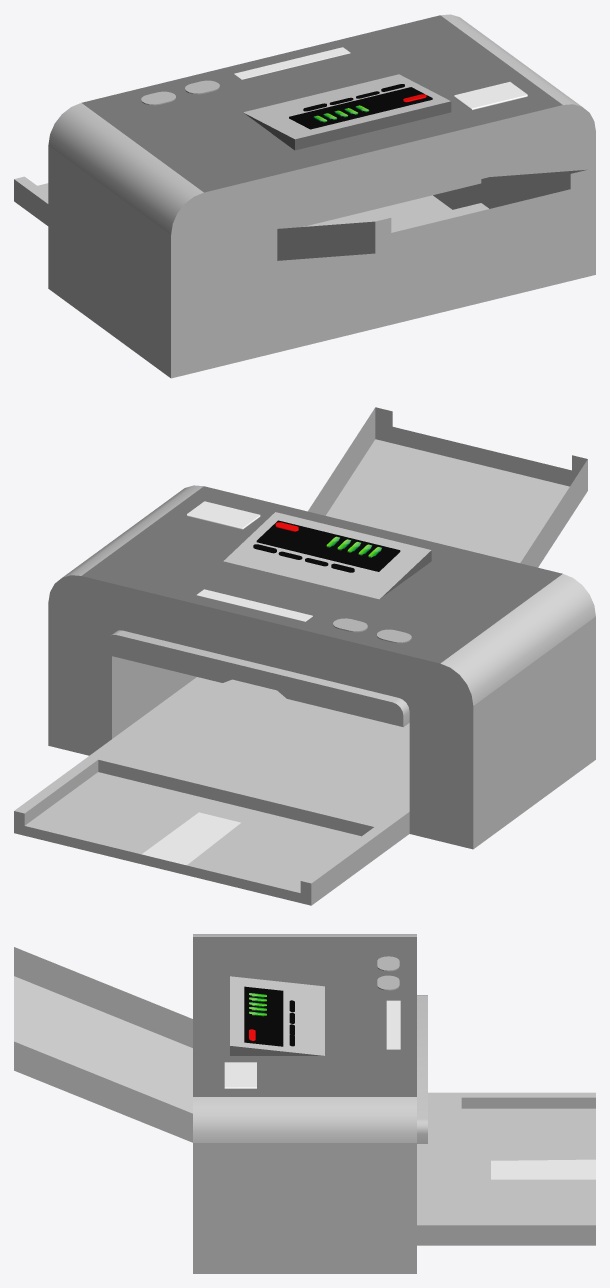
The model's file is impresora.obj.
3 renders of one model, top to bottom at view 1: azimuth 30°, elevation 25°; view 2: azimuth 150°, elevation 25°; view 3: azimuth 270°, elevation 25°, orthographic. The views are drawn at different scales.
Parts seen in each view (by area): view 1: polySurface6 polySurface4 polySurface2 pasted__polySurface14 gro; view 2: polySurface6 polySurface4 polySurface2 pasted__polySurface14 gro; view 3: polySurface6 polySurface4 polySurface2 pasted__polySurface14 gro.
Part boxes in pixels (x1,y1,x2,y2): polySurface6 polySurface4 polySurface2 pasted__polySurface14 gro: [14, 14, 595, 378]; polySurface6 polySurface4 polySurface2 pasted__polySurface14 gro: [14, 407, 595, 905]; polySurface6 polySurface4 polySurface2 pasted__polySurface14 gro: [14, 934, 595, 1273].
Bounding box in the file's own units: 0.508 × 0.2318 × 0.6604.
